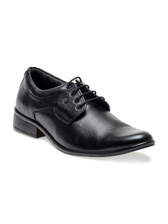shoes: (10, 63, 156, 154)
